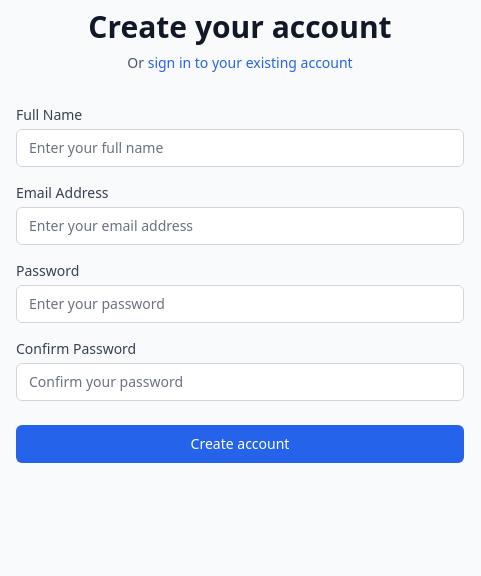
RegisterForm › should show validation errors for empty fields
This screenshot has width=481, height=576.
Click the button "Create account" at (240, 444), box [16,425,464,463]
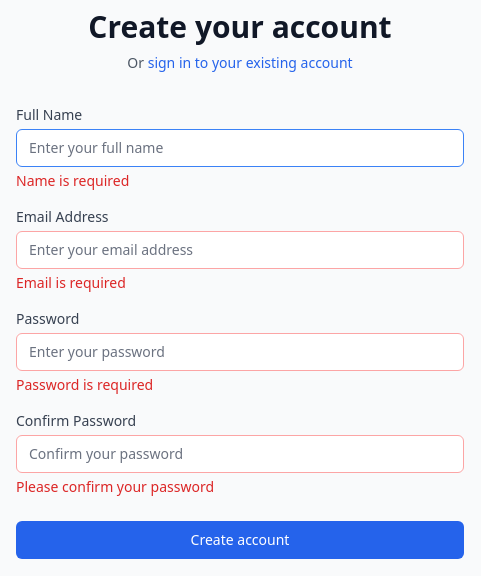
Check: the text "Name is required" is shown, box [16,171,129,190]
Check: the text "Email is required" is shown, box [16,273,126,292]
Check: the text "Password is required" is shown, box [16,375,153,394]
